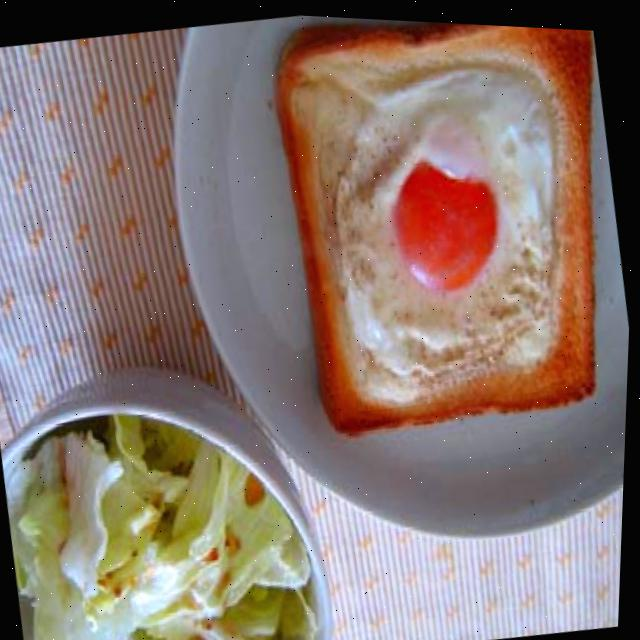面包点心: (252, 11, 640, 456)
